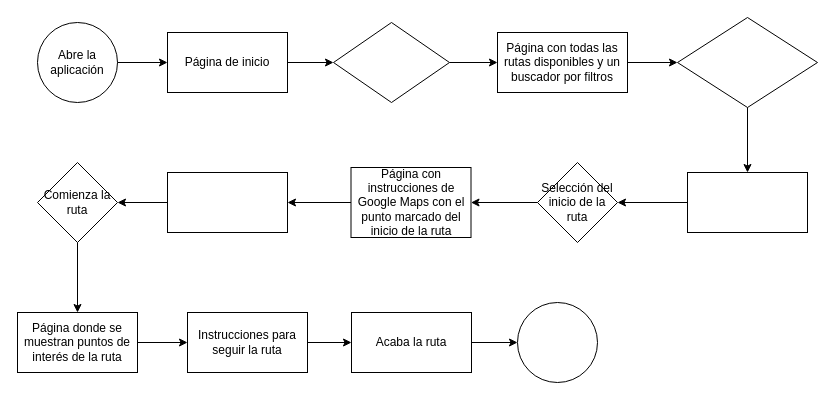
This 835x400 diagram has some shape labels left out. The shapes that lost their labels are listed below. From the top down, each one's centre as x and y in pixels, then its label:
the point at 391,62: Selecciona la pestaña Rutas
the point at 747,62: Utiliza el buscador con los filtros adecuados
the point at 227,202: Llegada al inicio de la ruta
the point at 747,202: Página de la ruta deseada
the point at 557,342: Valoración de la ruta
